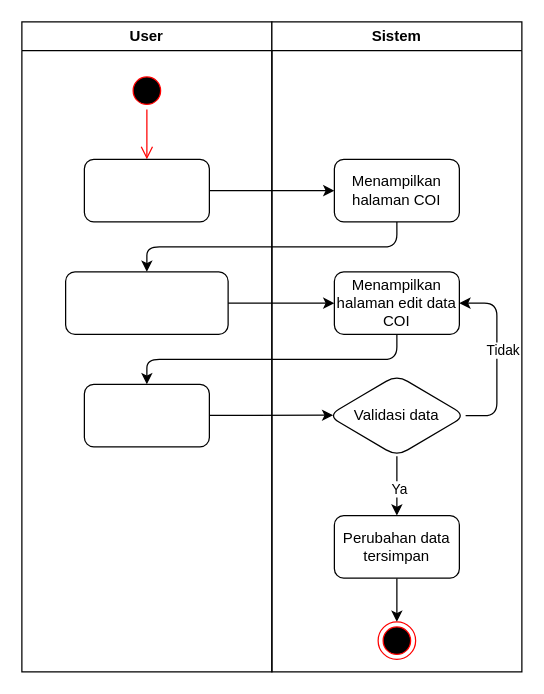
Image size: 544x694. Some labels were removed from this diagram. Here are the shapes that lost their labels. From the top down, the centre of each, then its label:
At [146,190]: "Pilih fitur COI".
At [146,302]: "Pilih salah satu tombol edit pada kolom aksi (icon pen)".
At [146,415]: "Edit data COI".
